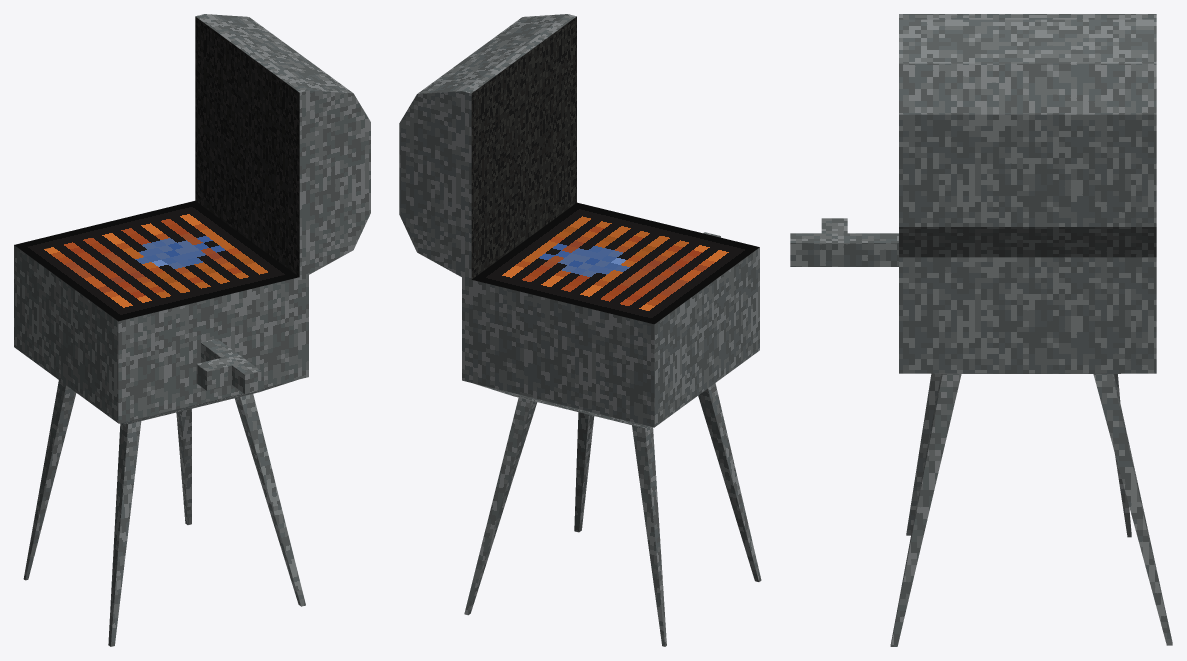
File: BGN_GRILL(OPEN).fbx
3 renders of one model, left to right at view 1: azimuth 30°, elevation 25°; view 2: azimuth 150°, elevation 25°; view 3: azimuth 270°, elevation 25°, orthographic. The views are drawn at different scales.
Parts seen in each view (by area): view 1: BGN_GRILL_OPEN_; view 2: BGN_GRILL_OPEN_; view 3: BGN_GRILL_OPEN_.
Boxes of the visible parts, x1,y1,x2,y2 form: BGN_GRILL_OPEN_: (14, 14, 370, 646); BGN_GRILL_OPEN_: (399, 14, 761, 646); BGN_GRILL_OPEN_: (790, 14, 1172, 646).
Bounding box in the file's own units: 192 × 364 × 200.
Materials: 3 (3 with a texture image).
